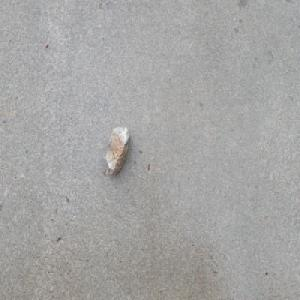Rock: (103, 123, 130, 178)
